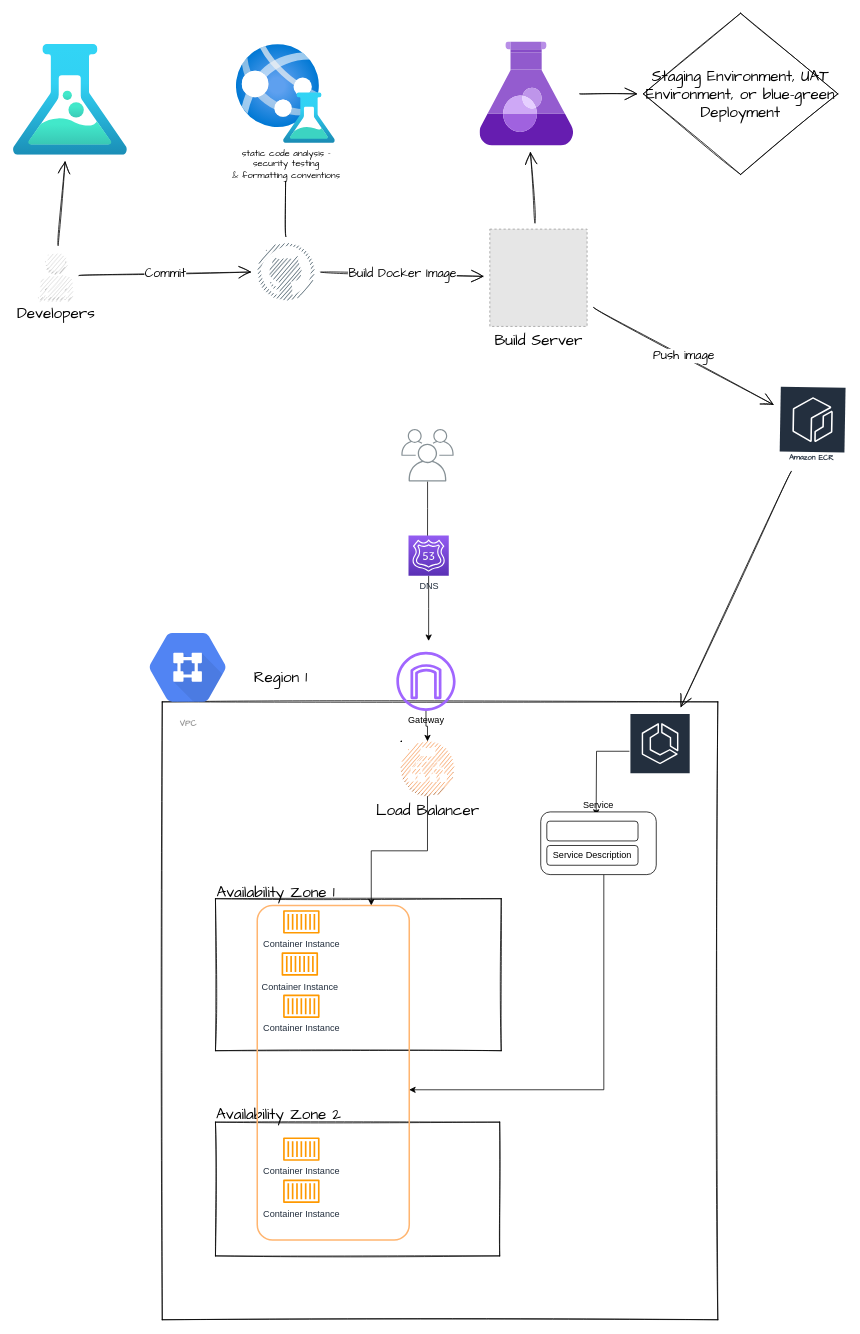
Some shapes in this 860 by 1334 pixel diagram are drawn without their labels. Grey dashed boxes stand in for pictures. The shapes that lost their labels are listed below. From the top down, each one's box as (x1, y1, x2, y2) in pixels, then its label:
(13, 44, 127, 155): Unit tests and linting
(480, 42, 573, 145): Integration, systems, UX, QA, and/or UAT testing
(256, 242, 314, 300): Version Control
(401, 429, 453, 481): users
(629, 712, 690, 789): Amazon ECS
(546, 820, 638, 841): Task Definition
(256, 904, 410, 1240): ECS Cluster
